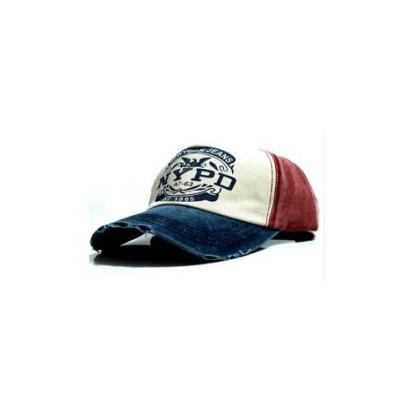cap: (83, 127, 321, 278)
